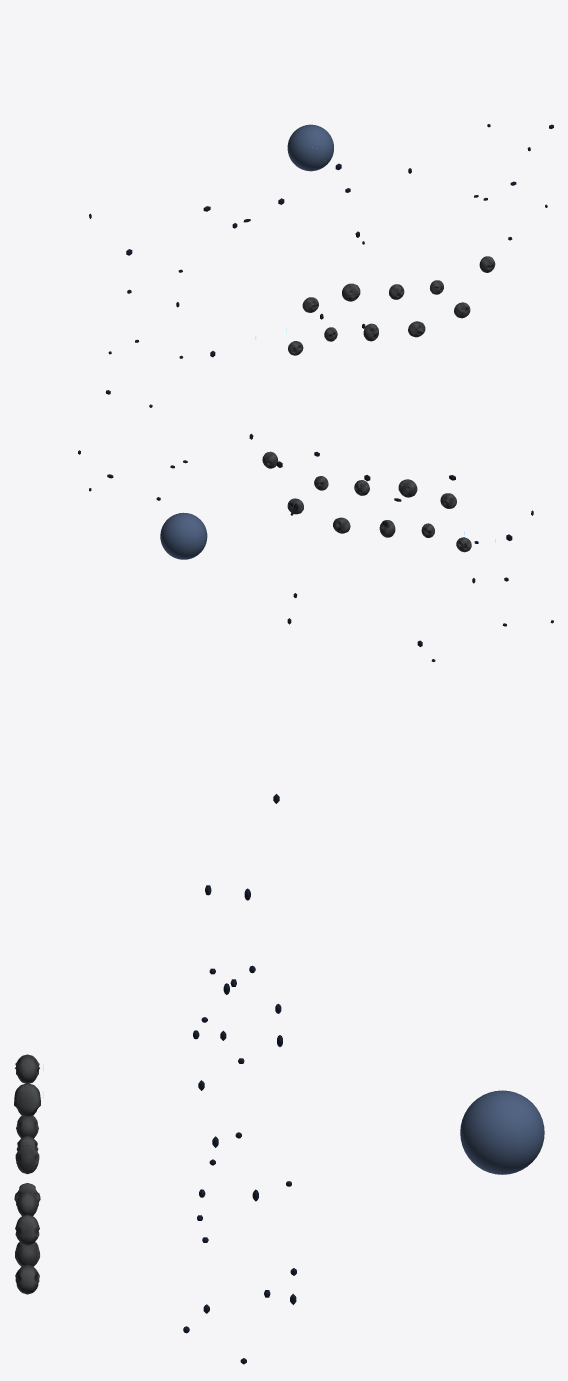
Rendered from 12-drift.glb.
The picture shows the model from 3 angles, top to bottom: view 1: azimuth 30°, elevation 25°; view 2: azimuth 150°, elevation 25°; view 3: azimuth 270°, elevation 25°; orthographic projection. The views are drawn at different scales.
Visible parts, largest first — view 1: planet_horizon; view 2: planet_horizon; view 3: planet_horizon.
Boxes of the visible parts, x1,y1,x2,y2 form: planet_horizon: (287, 124, 333, 171); planet_horizon: (160, 512, 207, 559); planet_horizon: (460, 1090, 544, 1174).
Size of what is drawn, in the model's own units: 89.6 by 43.04 by 51.17.
